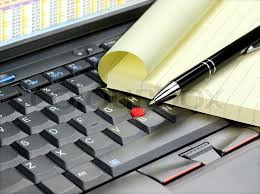pen: (146, 27, 260, 106)
